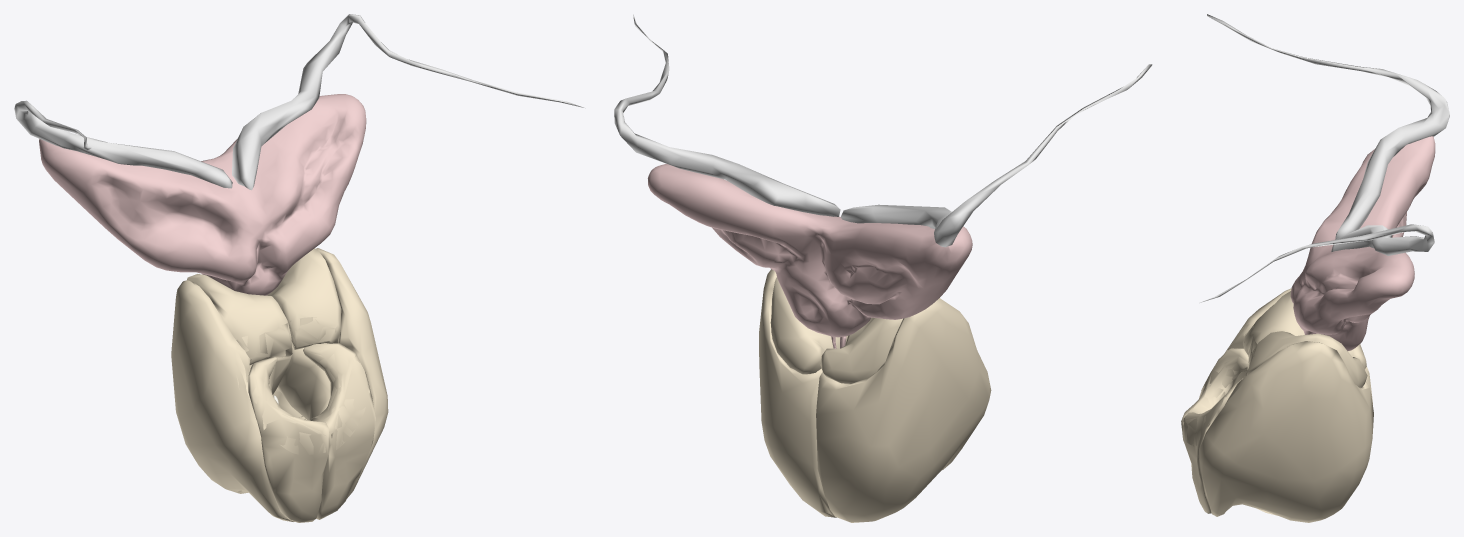
File: vh_m_prostate-20.fbx
3 views of the same model, side by side, from view 1: azimuth 30°, elevation 25°; view 2: azimuth 150°, elevation 25°; view 3: azimuth 270°, elevation 25° (orthographic). The views are drawn at different scales.
Visible parts, largest first — view 1: VH_M_seminal_vesicle, VH_M_peripheral_zone_of_prostate_R, VH_M_anterior_fibromuscular_stroma_R, VH_M_anterior_fibromuscular_stroma_L, VH_M_vas_deferens_R, VH_M_base_of_prostate, VH_M_vas_deferens_L, VH_M_central_zone_of_prostate_L, VH_M_peripheral_zone_of_prostate_L, VH_M_central_zone_of_prostate_R, VH_M_transition_zone__of_prostate_L; view 2: VH_M_peripheral_zone_of_prostate_R, VH_M_seminal_vesicle, VH_M_peripheral_zone_of_prostate_L, VH_M_vas_deferens_R, VH_M_vas_deferens_L, VH_M_central_zone_of_prostate_R, VH_M_central_zone_of_prostate_L; view 3: VH_M_peripheral_zone_of_prostate_L, VH_M_seminal_vesicle, VH_M_vas_deferens_L, VH_M_vas_deferens_R, VH_M_central_zone_of_prostate_L, VH_M_central_zone_of_prostate_R, VH_M_base_of_prostate, VH_M_anterior_fibromuscular_stroma_L, VH_M_anterior_fibromuscular_stroma_R, VH_M_peripheral_zone_of_prostate_R.
Part boxes in pixels (x1,y1,x2,y2): VH_M_seminal_vesicle: [39, 94, 366, 295]; VH_M_peripheral_zone_of_prostate_R: [171, 280, 294, 521]; VH_M_anterior_fibromuscular_stroma_R: [248, 357, 329, 522]; VH_M_anterior_fibromuscular_stroma_L: [303, 343, 375, 519]; VH_M_vas_deferens_R: [232, 14, 583, 190]; VH_M_base_of_prostate: [235, 317, 369, 454]; VH_M_vas_deferens_L: [14, 100, 232, 188]; VH_M_central_zone_of_prostate_L: [267, 248, 341, 349]; VH_M_peripheral_zone_of_prostate_L: [273, 248, 388, 498]; VH_M_central_zone_of_prostate_R: [187, 274, 292, 365]; VH_M_transition_zone__of_prostate_L: [277, 344, 330, 420]; VH_M_peripheral_zone_of_prostate_R: [816, 298, 991, 522]; VH_M_seminal_vesicle: [647, 164, 972, 337]; VH_M_peripheral_zone_of_prostate_L: [759, 269, 836, 517]; VH_M_vas_deferens_R: [614, 14, 840, 216]; VH_M_vas_deferens_L: [841, 64, 1152, 247]; VH_M_central_zone_of_prostate_R: [820, 317, 902, 383]; VH_M_central_zone_of_prostate_L: [770, 277, 847, 374]; VH_M_peripheral_zone_of_prostate_L: [1199, 341, 1373, 522]; VH_M_seminal_vesicle: [1290, 136, 1435, 350]; VH_M_vas_deferens_L: [1207, 14, 1449, 239]; VH_M_vas_deferens_R: [1200, 224, 1434, 302]; VH_M_central_zone_of_prostate_L: [1243, 331, 1367, 387]; VH_M_central_zone_of_prostate_R: [1243, 291, 1366, 369]; VH_M_base_of_prostate: [1183, 324, 1257, 446]; VH_M_anterior_fibromuscular_stroma_L: [1182, 379, 1242, 513]; VH_M_anterior_fibromuscular_stroma_R: [1181, 348, 1248, 441]; VH_M_peripheral_zone_of_prostate_R: [1201, 288, 1372, 404].
Bounding box in the file's own units: 8.28 × 7.03 × 4.28.
